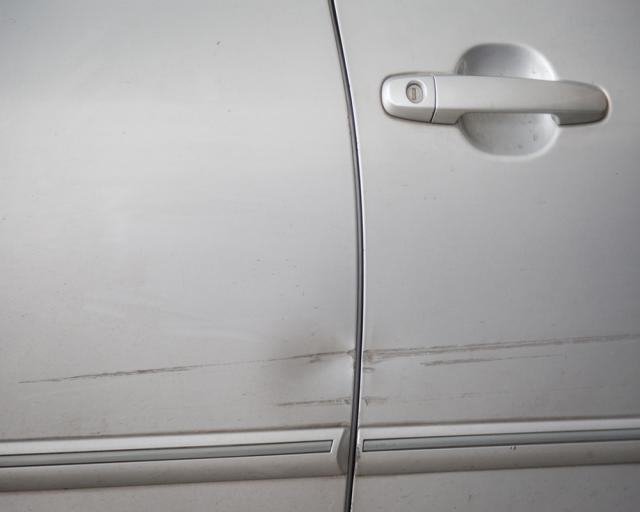dent: (254, 331, 356, 426)
scratch: (358, 330, 640, 412), (20, 361, 211, 388)
